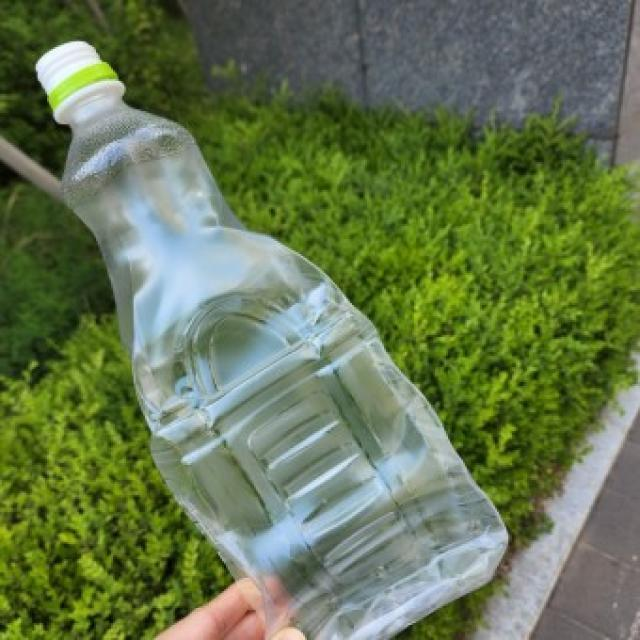plastic_bottle: (35, 41, 510, 640)
